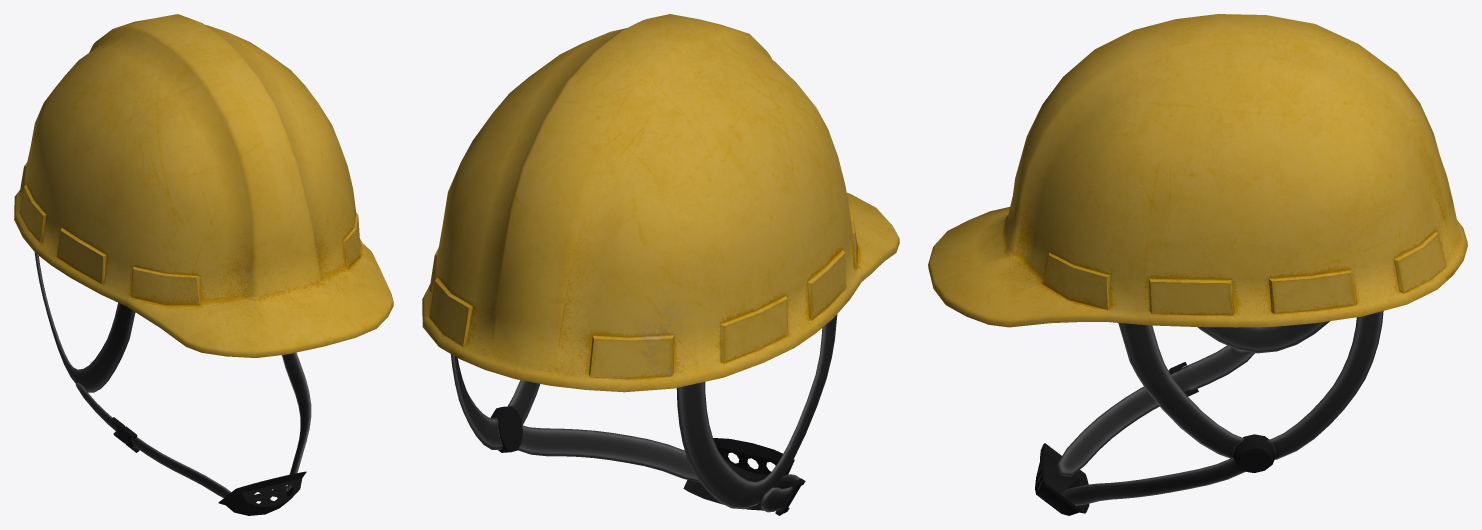
Rendered from cascoBueno.fbx.
3 renders of one model, left to right at view 1: azimuth 30°, elevation 25°; view 2: azimuth 150°, elevation 25°; view 3: azimuth 270°, elevation 25°, orthographic. The views are drawn at different scales.
Parts seen in each view (by area): view 1: casco1_Head_Hat; view 2: casco1_Head_Hat; view 3: casco1_Head_Hat.
Part boxes in pixels (x1,y1,x2,y2): casco1_Head_Hat: (14,14,393,515); casco1_Head_Hat: (422,14,899,515); casco1_Head_Hat: (928,14,1467,515).
Size of the model in its own units: 14.89 by 21.8 by 22.11.
Materials: 1 (1 with a texture image).
